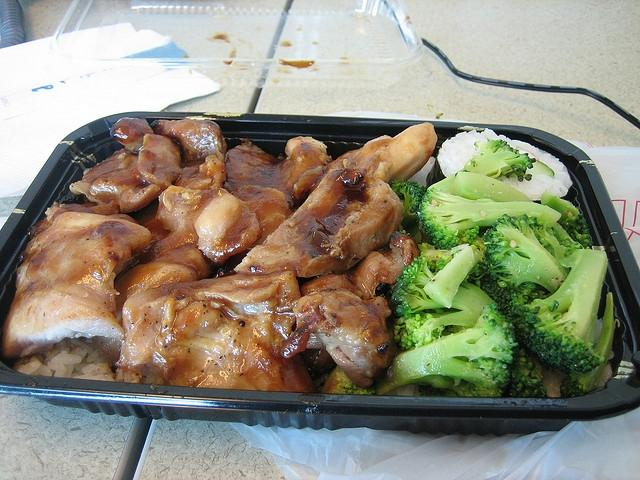broccoli: (508, 231, 608, 374), (376, 306, 522, 399), (389, 256, 498, 349), (416, 188, 562, 250), (480, 214, 568, 294), (428, 139, 536, 194), (559, 291, 614, 398), (423, 237, 485, 308), (452, 172, 534, 202), (502, 347, 548, 397), (392, 178, 428, 235)
